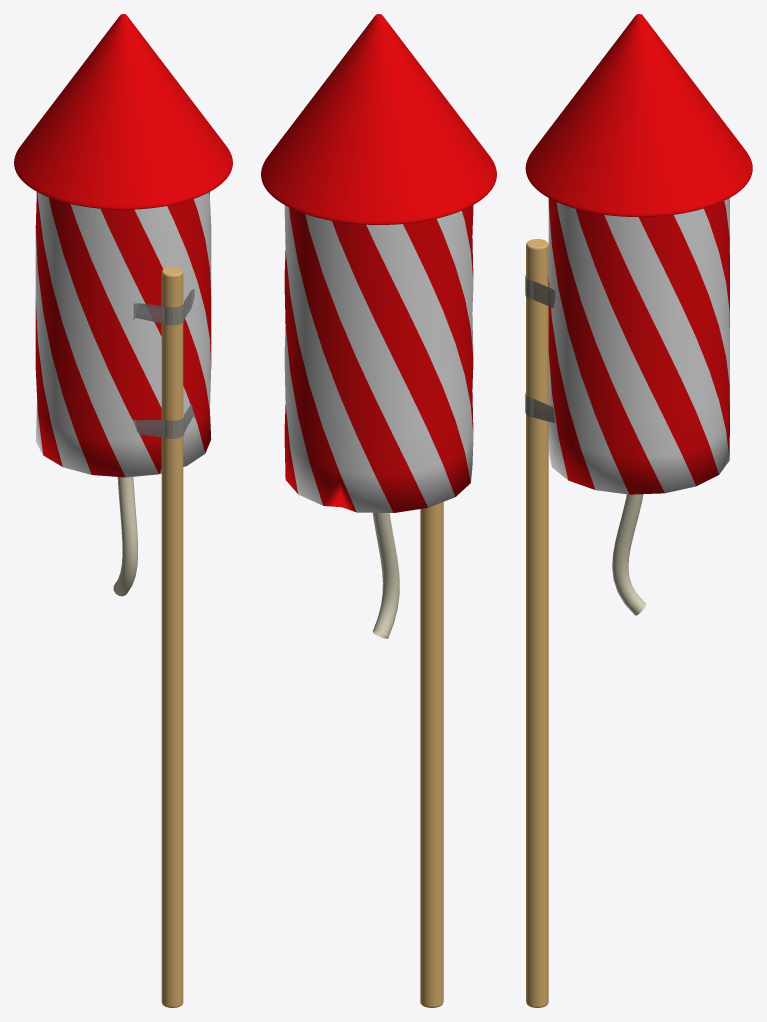
File: Firework Rocket.fbx
3 renders of one model, left to right at view 1: azimuth 30°, elevation 25°; view 2: azimuth 150°, elevation 25°; view 3: azimuth 270°, elevation 25°, orthographic. The views are drawn at different scales.
Parts seen in each view (by area): view 1: Rocket_Body_Stick, Rocket_Cap, Rocket_Fuze, Tape_Top, Tape_Bottom; view 2: Rocket_Body_Stick, Rocket_Cap, Rocket_Fuze; view 3: Rocket_Body_Stick, Rocket_Cap, Rocket_Fuze, Tape_Top, Tape_Bottom.
Boxes of the visible parts, box(x1,y1,x2,y2) form: Rocket_Body_Stick: box(35, 14, 211, 1007); Rocket_Cap: box(14, 15, 232, 209); Rocket_Fuze: box(113, 477, 137, 596); Tape_Top: box(133, 289, 194, 325); Tape_Bottom: box(132, 404, 195, 438); Rocket_Body_Stick: box(284, 14, 473, 1007); Rocket_Cap: box(261, 16, 496, 224); Rocket_Fuze: box(372, 512, 399, 638); Rocket_Body_Stick: box(526, 14, 729, 1007); Rocket_Cap: box(525, 15, 752, 216); Rocket_Fuze: box(612, 494, 646, 615); Tape_Top: box(525, 275, 555, 307); Tape_Bottom: box(525, 393, 555, 425).
Size of the model in its own units: 249 by 1198 by 250.
